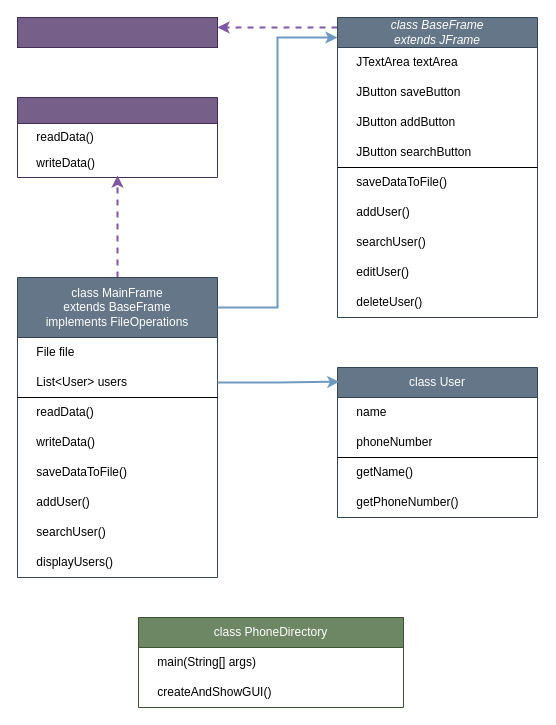
The diagram is 556 pixels wide and 725 high, and some of its shapes have lost their labels. Each missing label, with the box of its shape:
interface FileOperations: (16, 96, 218, 178)
JFrame: (16, 16, 218, 48)
